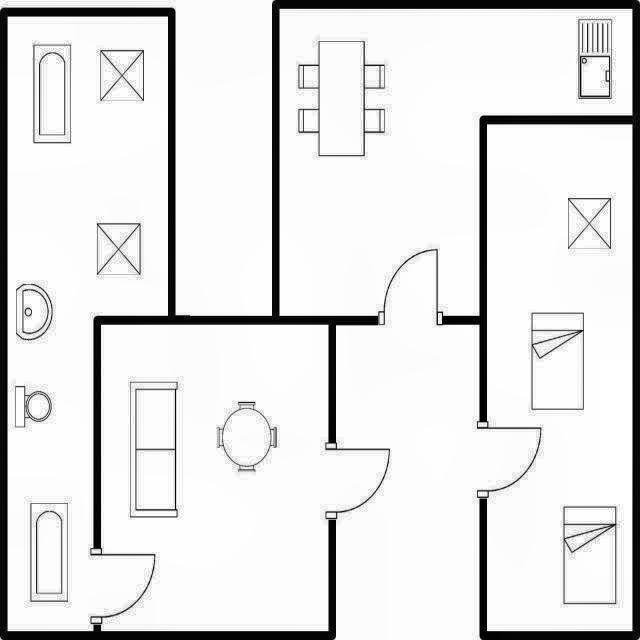room: (279, 9, 633, 316), (7, 16, 167, 631), (487, 125, 632, 630), (101, 325, 328, 630)
